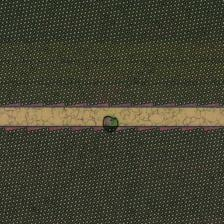COATING BAD: (99, 114, 123, 136)
